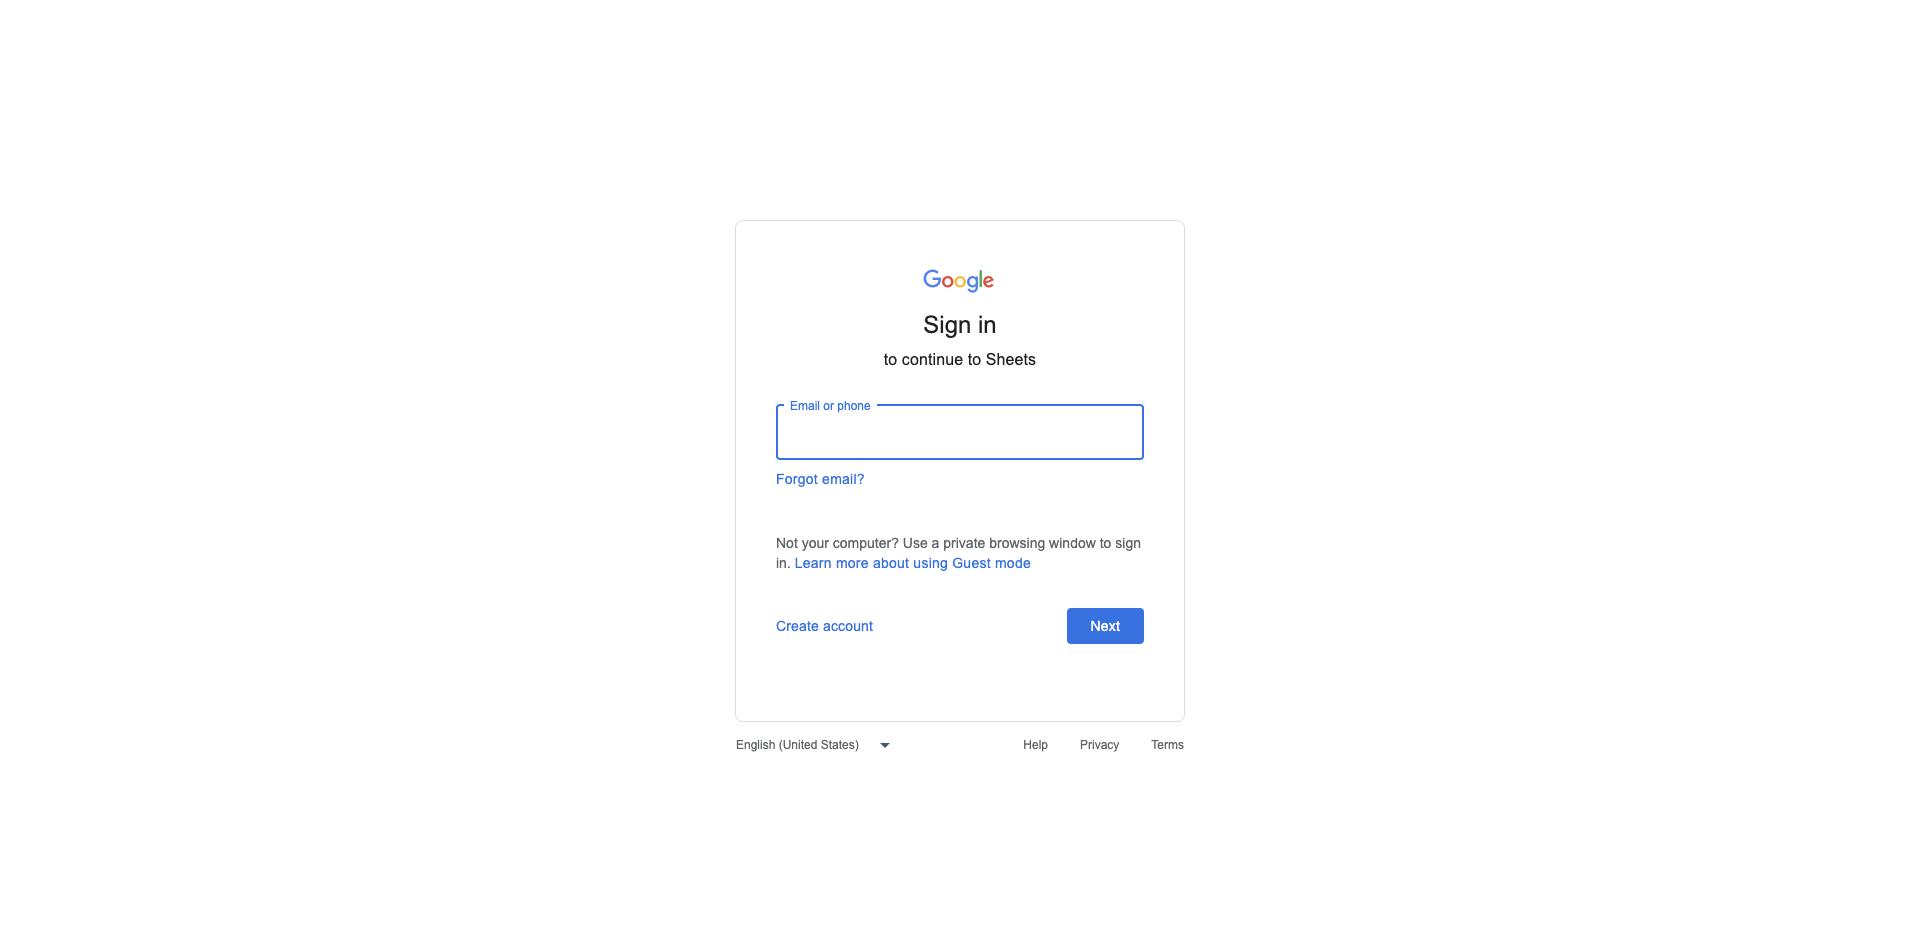button: (1067, 609, 1144, 644)
dropdown: (720, 720, 898, 768)
input: (776, 404, 1144, 461)
label: (776, 404, 1144, 461)
link: (795, 554, 1031, 573), (768, 609, 882, 644), (1064, 720, 1135, 768), (1135, 720, 1200, 768), (1008, 720, 1064, 768), (776, 469, 864, 489)
